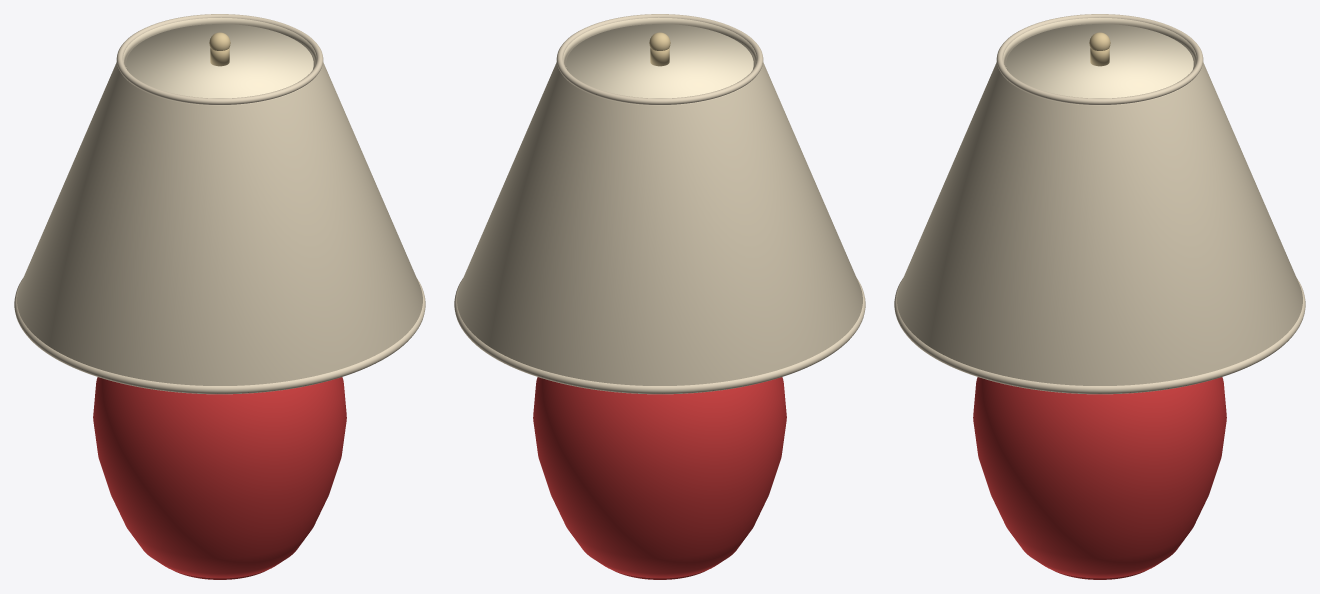
The model's file is table lamp.glb.
3 renders of one model, left to right at view 1: azimuth 30°, elevation 25°; view 2: azimuth 150°, elevation 25°; view 3: azimuth 270°, elevation 25°, orthographic.
Parts seen in each view (by area): view 1: Hollow Tapered Cream Linen Lampshade, Smooth Rounded Red Ceramic Lamp Base, Warm Inner Shade Diffuser, Bottom Cream Fabric Rolled Trim, Top Cream Fabric Rolled Trim; view 2: Hollow Tapered Cream Linen Lampshade, Smooth Rounded Red Ceramic Lamp Base, Warm Inner Shade Diffuser, Bottom Cream Fabric Rolled Trim, Top Cream Fabric Rolled Trim; view 3: Hollow Tapered Cream Linen Lampshade, Smooth Rounded Red Ceramic Lamp Base, Warm Inner Shade Diffuser, Bottom Cream Fabric Rolled Trim, Top Cream Fabric Rolled Trim.
Boxes of the visible parts, x1,y1,x2,y2 form: Hollow Tapered Cream Linen Lampshade: (17,17,422,385); Smooth Rounded Red Ceramic Lamp Base: (93,377,346,578); Warm Inner Shade Diffuser: (126,24,313,98); Bottom Cream Fabric Rolled Trim: (14,278,425,394); Top Cream Fabric Rolled Trim: (116,14,323,104); Hollow Tapered Cream Linen Lampshade: (457,17,862,385); Smooth Rounded Red Ceramic Lamp Base: (533,377,786,578); Warm Inner Shade Diffuser: (566,24,753,98); Bottom Cream Fabric Rolled Trim: (454,278,865,394); Top Cream Fabric Rolled Trim: (556,14,763,104); Hollow Tapered Cream Linen Lampshade: (897,18,1302,385); Smooth Rounded Red Ceramic Lamp Base: (973,377,1226,578); Warm Inner Shade Diffuser: (1006,24,1193,98); Bottom Cream Fabric Rolled Trim: (894,278,1305,394); Top Cream Fabric Rolled Trim: (996,14,1203,104).
Size of what is drawn, in the model's own units: 4.28 by 5.98 by 4.28.
